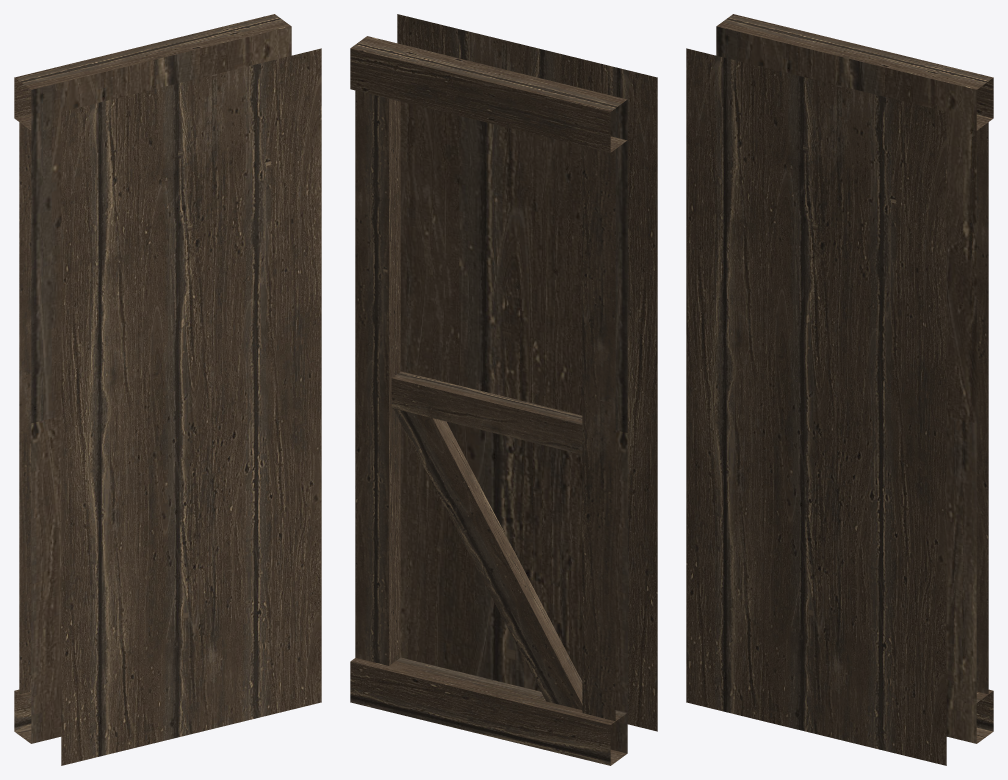
Rendered from ARC1010331.fbx.
3 views of the same model, side by side, from view 1: azimuth 30°, elevation 25°; view 2: azimuth 150°, elevation 25°; view 3: azimuth 330°, elevation 25° (orthographic).
Parts seen in each view (by area): view 1: smARC1010331; view 2: smARC1010331; view 3: smARC1010331.
Part boxes in pixels (box(x1,y1,x2,y2)): smARC1010331: box(14, 14, 321, 765); smARC1010331: box(350, 14, 657, 765); smARC1010331: box(686, 14, 993, 765).
Bounding box in the file's own units: 112 × 268 × 34.9.
1 material, 1 textured.
